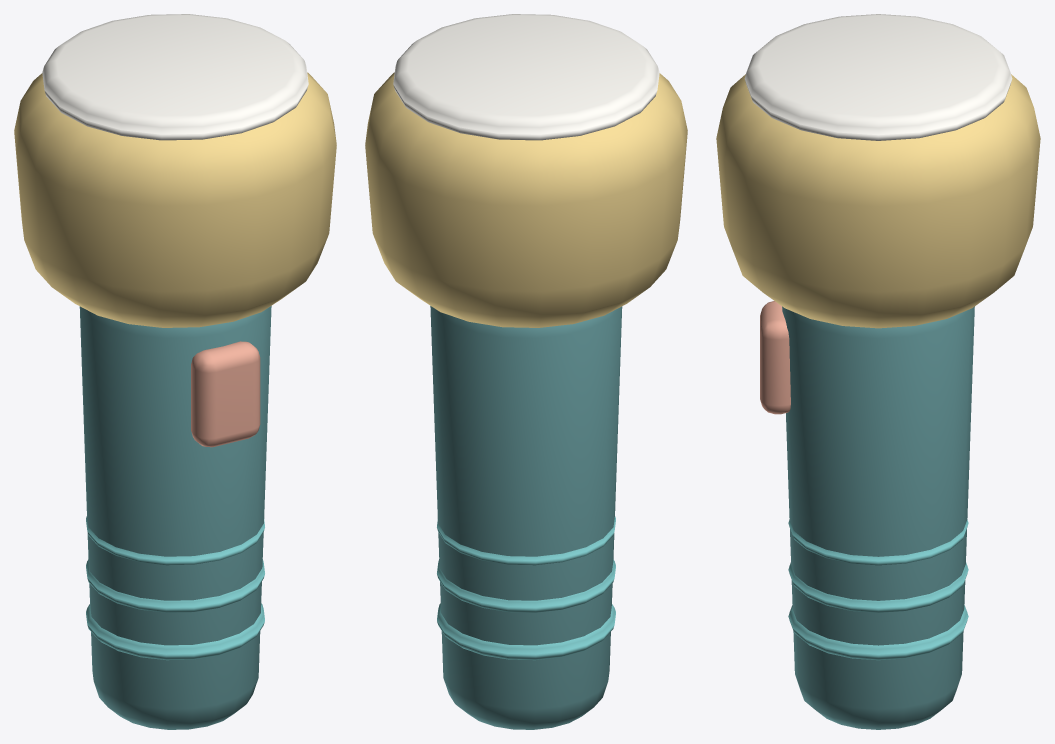
File: Flashlight.fbx
3 renders of one model, left to right at view 1: azimuth 30°, elevation 25°; view 2: azimuth 150°, elevation 25°; view 3: azimuth 270°, elevation 25°, orthographic.
Visible parts, largest first — view 1: Grip, LampHead, Lens, Switch, GripRing, GripRing.001, GripRing.002; view 2: Grip, LampHead, Lens, GripRing, GripRing.001, GripRing.002; view 3: Grip, LampHead, Lens, Switch, GripRing, GripRing.001, GripRing.002.
Boxes of the visible parts, x1,y1,x2,y2 form: Grip: (79,306,271,729); LampHead: (14,72,336,327); Lens: (42,14,308,140); Switch: (191,341,260,447); GripRing: (86,603,264,660); GripRing.001: (86,559,264,612); GripRing.002: (86,516,264,565); Grip: (430,306,622,729); LampHead: (365,72,687,327); Lens: (393,14,659,140); GripRing: (437,603,615,660); GripRing.001: (437,559,615,612); GripRing.002: (437,516,615,565); Grip: (782,306,974,729); LampHead: (716,74,1040,328); Lens: (744,14,1012,140); Switch: (760,301,790,414); GripRing: (788,605,968,660); GripRing.001: (788,562,968,612); GripRing.002: (788,519,968,565).
Size of the model in its own units: 12.6 by 27.5 by 12.6.
